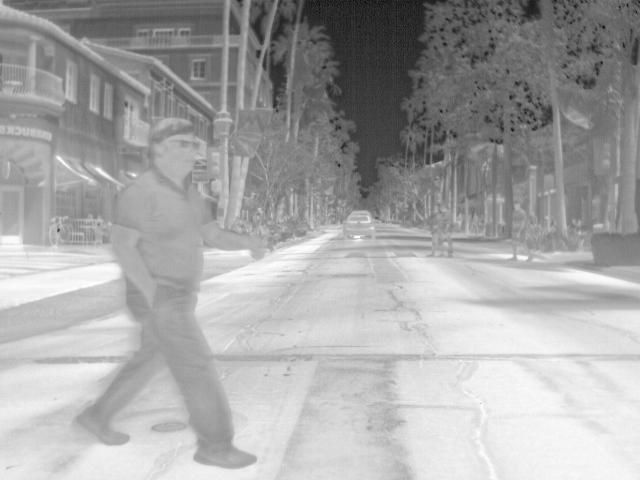car: (343, 212, 374, 242), (349, 207, 373, 218)
person: (77, 115, 267, 469), (506, 200, 536, 262), (438, 204, 454, 258), (427, 203, 443, 257), (469, 211, 482, 235), (453, 211, 466, 231)
